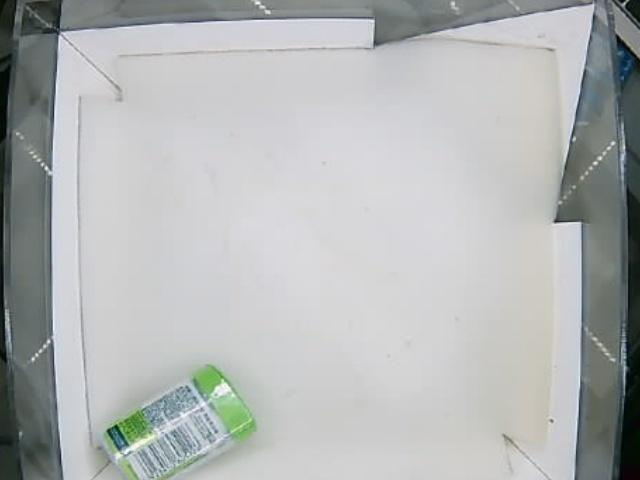Bottle: (100, 363, 257, 478)
